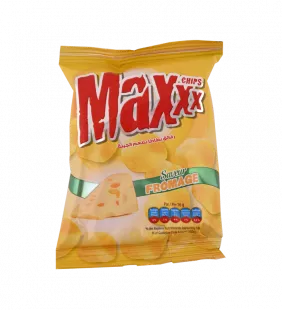MAXXX: (43, 27, 237, 277)
